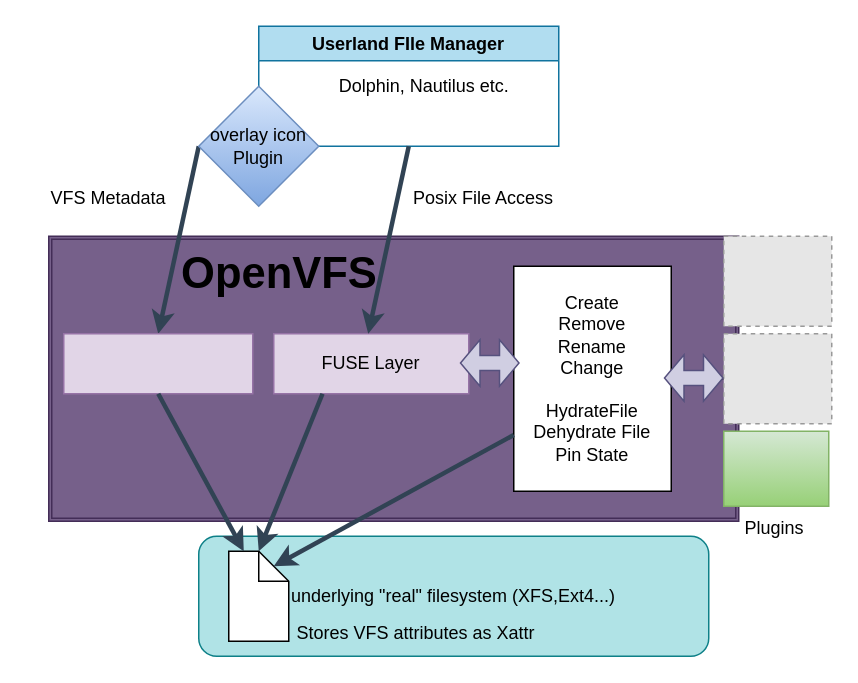
Image size: 858x683. Some labels were removed from this diagram. Grey dashed boxes stand in for pictures. The centre of each missing label's shape, as x and y in pixels:
"File" goes at pixel 258 595.
"libOpenVFS" goes at pixel 157 363.
"other Cloud Provider" goes at pixel 775 468.
